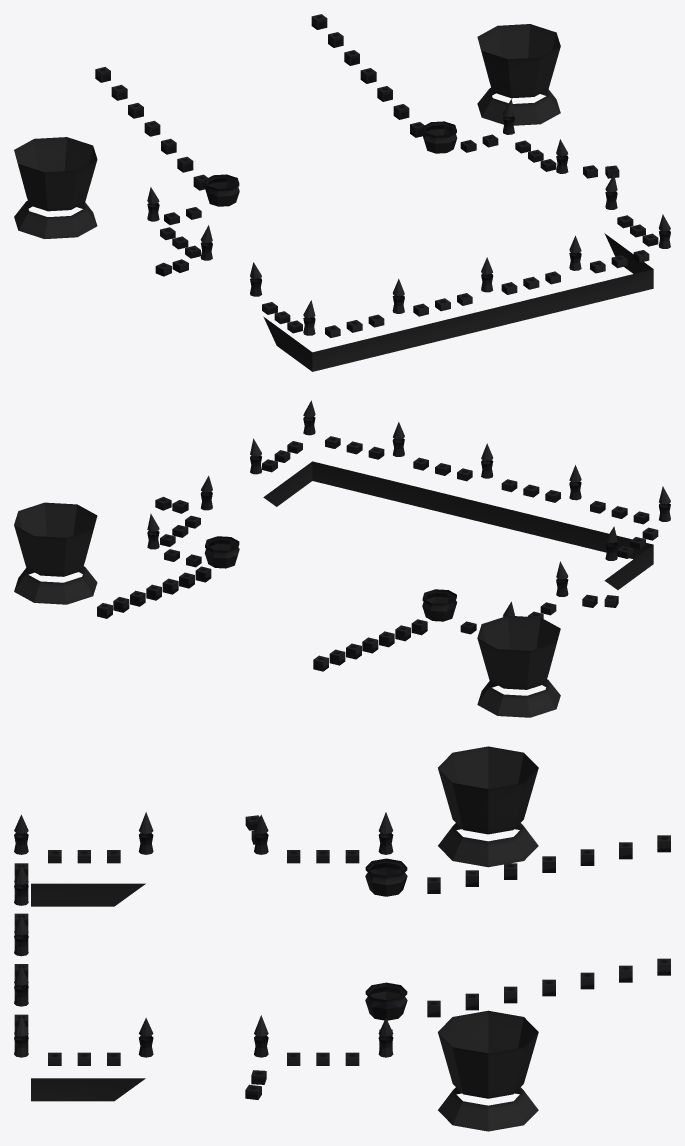
Rendered from Pillar_02.FBX.
The picture shows the model from 3 angles, top to bottom: view 1: azimuth 30°, elevation 25°; view 2: azimuth 150°, elevation 25°; view 3: azimuth 270°, elevation 25°; orthographic projection. The views are drawn at different scales.
Parts seen in each view (by area): view 1: Pillar_02; view 2: Pillar_02; view 3: Pillar_02.
Boxes of the visible parts, bbox=[...] form: Pillar_02: bbox=[14, 14, 670, 371]; Pillar_02: bbox=[14, 400, 670, 717]; Pillar_02: bbox=[14, 746, 670, 1131].
Bounding box in the file's own units: 37.86 × 5.98 × 34.24.
